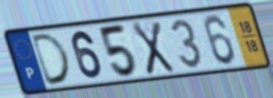3: (167, 16, 205, 70)
5: (96, 21, 139, 80)
6: (202, 11, 238, 68), (70, 29, 104, 81)
D: (30, 31, 74, 88)
X: (129, 20, 177, 77)
